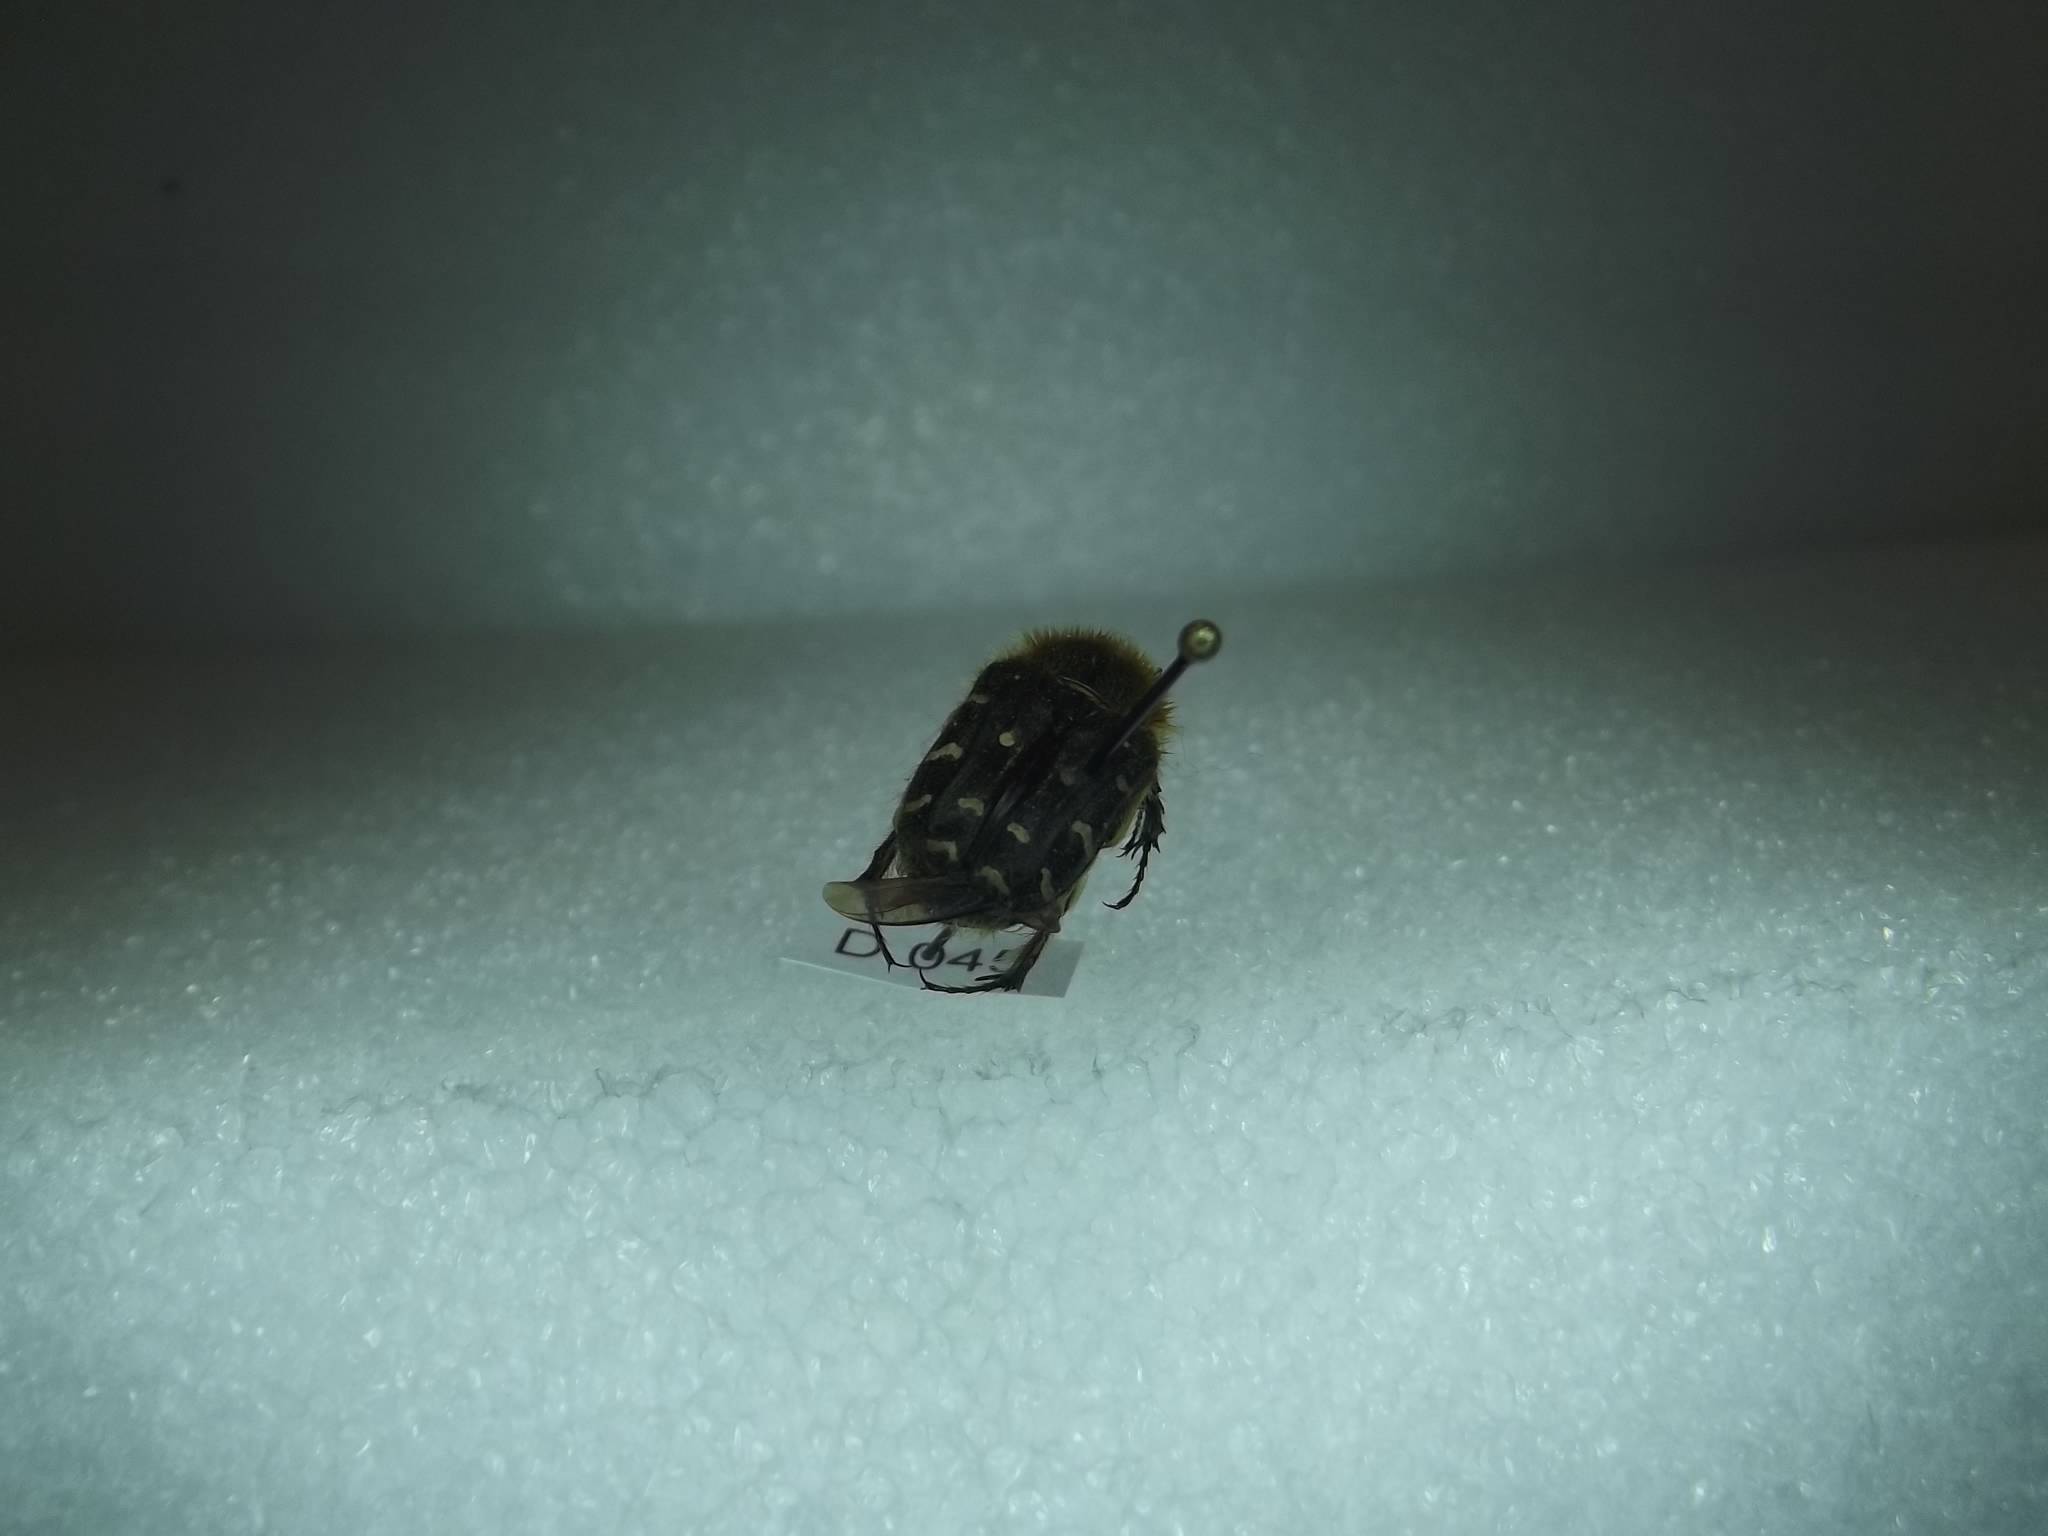Tropinota_hirta: (834, 595, 1213, 1007)
